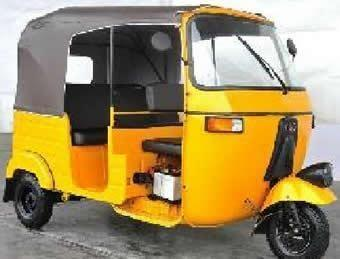keke: (5, 4, 334, 253)
